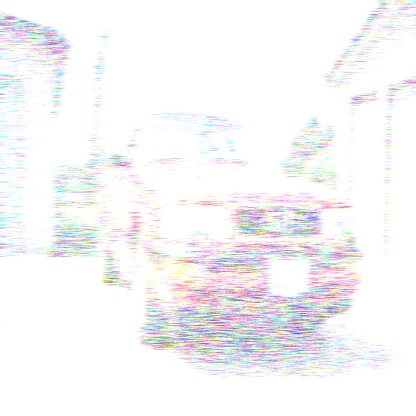Vehicle: (94, 109, 364, 349)
